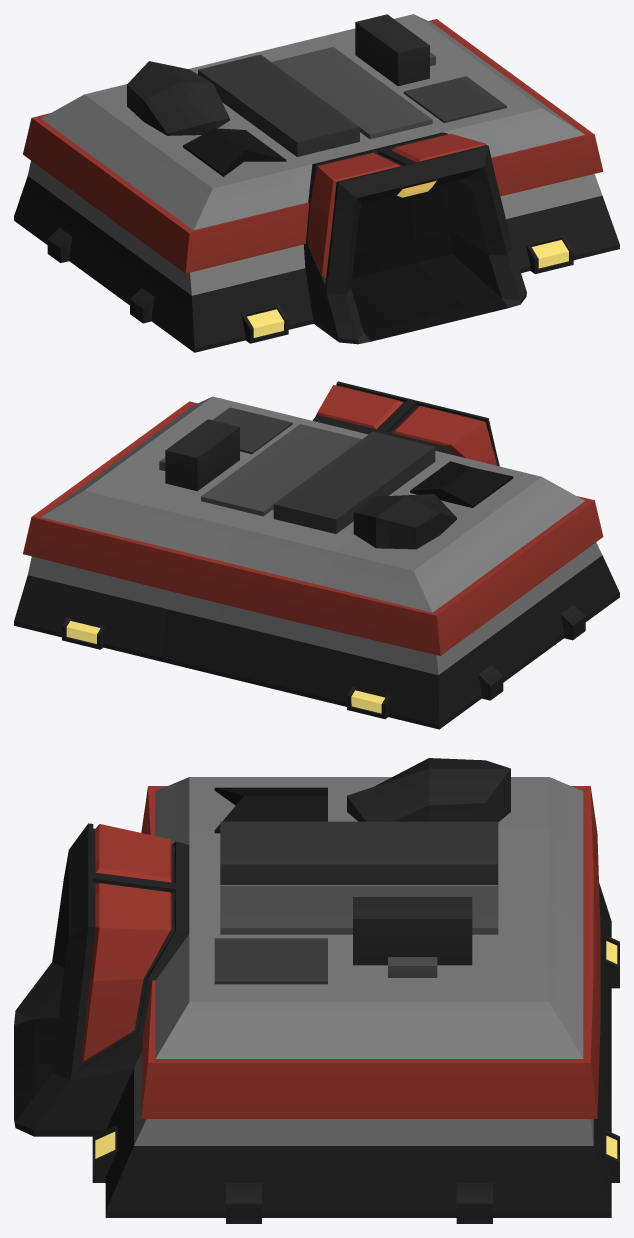
The model's file is Barracks.glb.
3 views of the same model, one above another, from view 1: azimuth 30°, elevation 25°; view 2: azimuth 150°, elevation 25°; view 3: azimuth 270°, elevation 25° (orthographic). The views are drawn at different scales.
Parts seen in each view (by area): view 1: Barracks; view 2: Barracks; view 3: Barracks.
Part boxes in pixels (box(x1,y1,x2,y2)): Barracks: box(14, 14, 619, 352); Barracks: box(14, 381, 619, 729); Barracks: box(14, 758, 619, 1223).
Bounding box in the file's own units: 31.73 × 11.22 × 26.85.
Materials: 2 (2 with a texture image).
